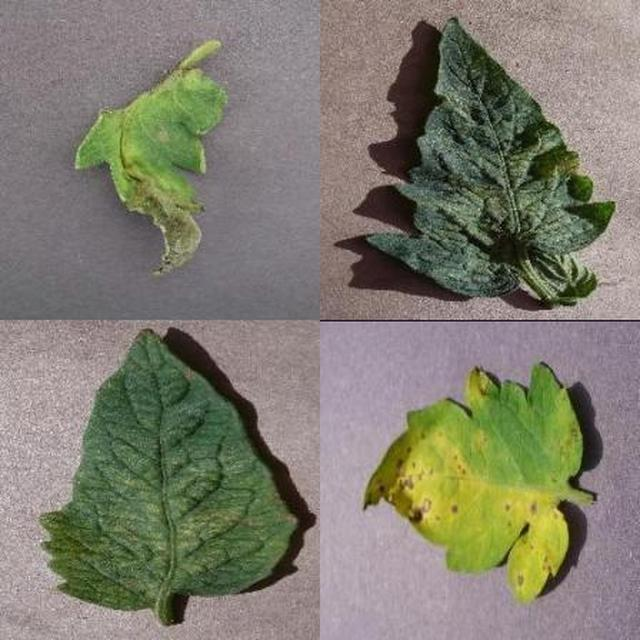Late Blight Leaf: (216, 221, 640, 640)
